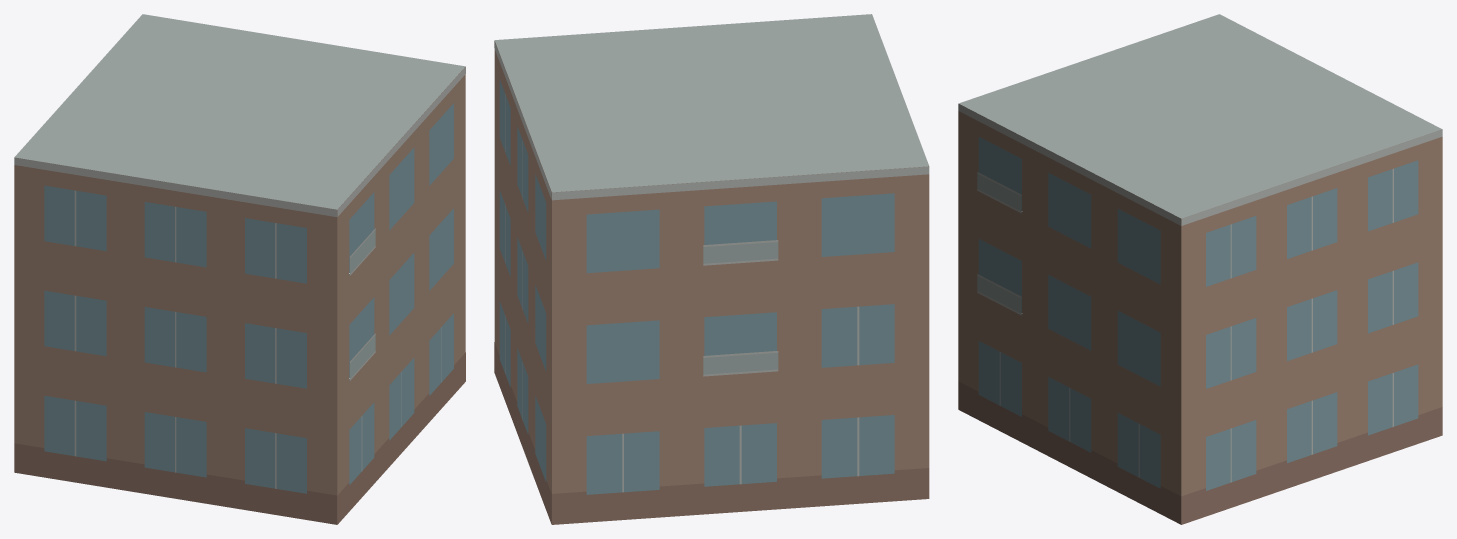
File: survey-upis-32536210.glb
3 renders of one model, left to right at view 1: azimuth 30°, elevation 25°; view 2: azimuth 150°, elevation 25°; view 3: azimuth 270°, elevation 25°, orthographic. The views are drawn at different scales.
Visible parts, largest first — view 1: survey-upis-32536210.tmp; view 2: survey-upis-32536210.tmp; view 3: survey-upis-32536210.tmp.
Part boxes in pixels (bbox=[...]): survey-upis-32536210.tmp: bbox=[14, 14, 465, 524]; survey-upis-32536210.tmp: bbox=[494, 14, 929, 524]; survey-upis-32536210.tmp: bbox=[958, 14, 1442, 524].
Size of the model in its own units: 14.64 by 10.2 by 14.62.
